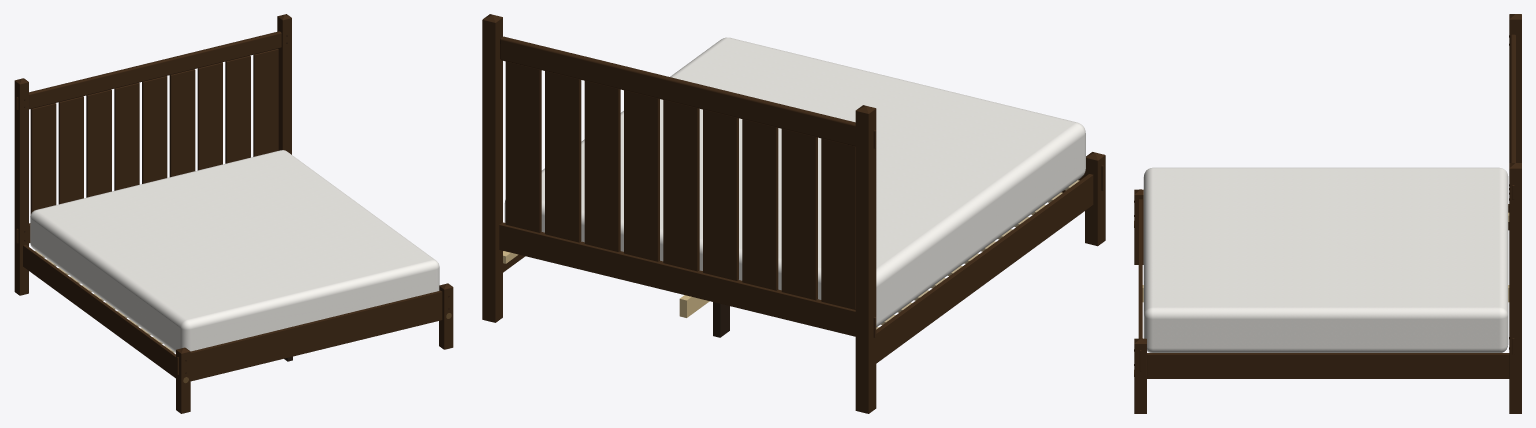
Rendered from bed-frame-king-bare.glb.
3 views of the same model, side by side, from view 1: azimuth 30°, elevation 25°; view 2: azimuth 150°, elevation 25°; view 3: azimuth 270°, elevation 25° (orthographic). The views are drawn at different scales.
Parts seen in each view (by area): view 1: Bed mattress, Bed foot rail, Bed headboard rail top, Bed side rail L, Bed headboard post L, Bed headboard slat 1, Bed headboard slat 6, Bed headboard slat 3, Bed headboard slat 4, Bed headboard slat 7, Bed headboard slat 9, Bed headboard slat 8 (+5 smaller); view 2: Bed mattress, Bed headboard rail bottom, Bed headboard rail top, Bed side rail L, Bed headboard post L, Bed headboard post R, Bed headboard slat 9, Bed headboard slat 8, Bed headboard slat 2, Bed headboard slat 3, Bed headboard slat 5, Bed headboard slat 7 (+4 smaller); view 3: Bed mattress, Bed side rail R, Bed headboard post R, Bed headboard post L, Bed headboard rail top, Bed foot leg R, Bed foot rail, Bed foot leg L.
Boxes of the visible parts, x1=… form: Bed mattress: x1=30, y1=150, x2=439, y2=352; Bed foot rail: x1=190, y1=290, x2=442, y2=381; Bed headboard rail top: x1=29, y1=31, x2=281, y2=109; Bed side rail L: x1=23, y1=245, x2=175, y2=378; Bed headboard post L: x1=14, y1=81, x2=28, y2=295; Bed headboard slat 1: x1=30, y1=103, x2=56, y2=214; Bed headboard slat 6: x1=169, y1=69, x2=195, y2=177; Bed headboard slat 3: x1=86, y1=89, x2=111, y2=197; Bed headboard slat 4: x1=114, y1=82, x2=139, y2=190; Bed headboard slat 7: x1=197, y1=62, x2=222, y2=170; Bed headboard slat 9: x1=253, y1=49, x2=278, y2=156; Bed headboard slat 8: x1=225, y1=55, x2=250, y2=163; Bed mattress: x1=504, y1=37, x2=1085, y2=327; Bed headboard rail bottom: x1=499, y1=222, x2=855, y2=336; Bed headboard rail top: x1=500, y1=36, x2=855, y2=146; Bed side rail L: x1=876, y1=174, x2=1093, y2=363; Bed headboard post L: x1=855, y1=108, x2=876, y2=413; Bed headboard post R: x1=482, y1=17, x2=502, y2=322; Bed headboard slat 9: x1=505, y1=61, x2=541, y2=232; Bed headboard slat 8: x1=545, y1=71, x2=581, y2=242; Bed headboard slat 2: x1=781, y1=129, x2=817, y2=300; Bed headboard slat 3: x1=742, y1=119, x2=778, y2=290; Bed headboard slat 5: x1=663, y1=100, x2=699, y2=271; Bed headboard slat 7: x1=584, y1=81, x2=620, y2=251; Bed mattress: x1=1143, y1=167, x2=1508, y2=352; Bed side rail R: x1=1147, y1=353, x2=1509, y2=378; Bed headboard post R: x1=1509, y1=168, x2=1521, y2=413; Bed headboard post L: x1=1509, y1=19, x2=1521, y2=162; Bed headboard rail top: x1=1510, y1=34, x2=1516, y2=162; Bed foot leg R: x1=1134, y1=344, x2=1146, y2=413; Bed foot rail: x1=1138, y1=199, x2=1142, y2=338; Bed foot leg L: x1=1134, y1=195, x2=1143, y2=264.
Size of the model in its own units: 2.05 by 1.53 by 2.16.
9 materials, 1 textured.
